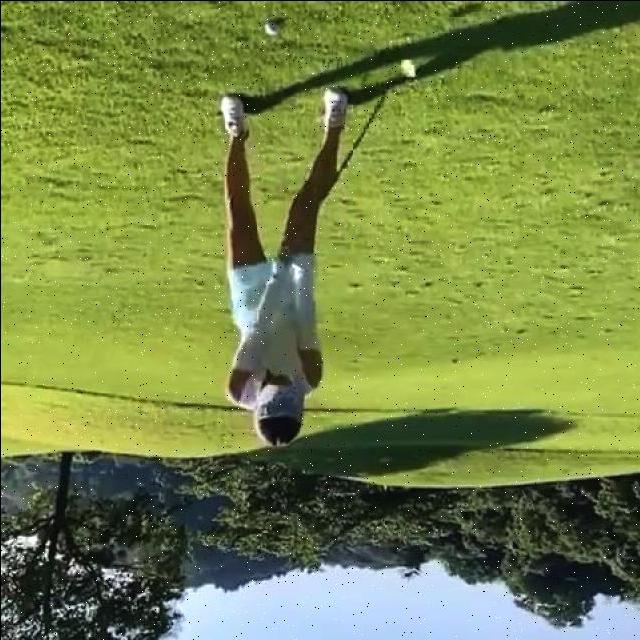ClubHandle: (320, 58, 416, 202)
ClubHead: (399, 60, 416, 80)
GolfBall: (265, 18, 279, 34)
